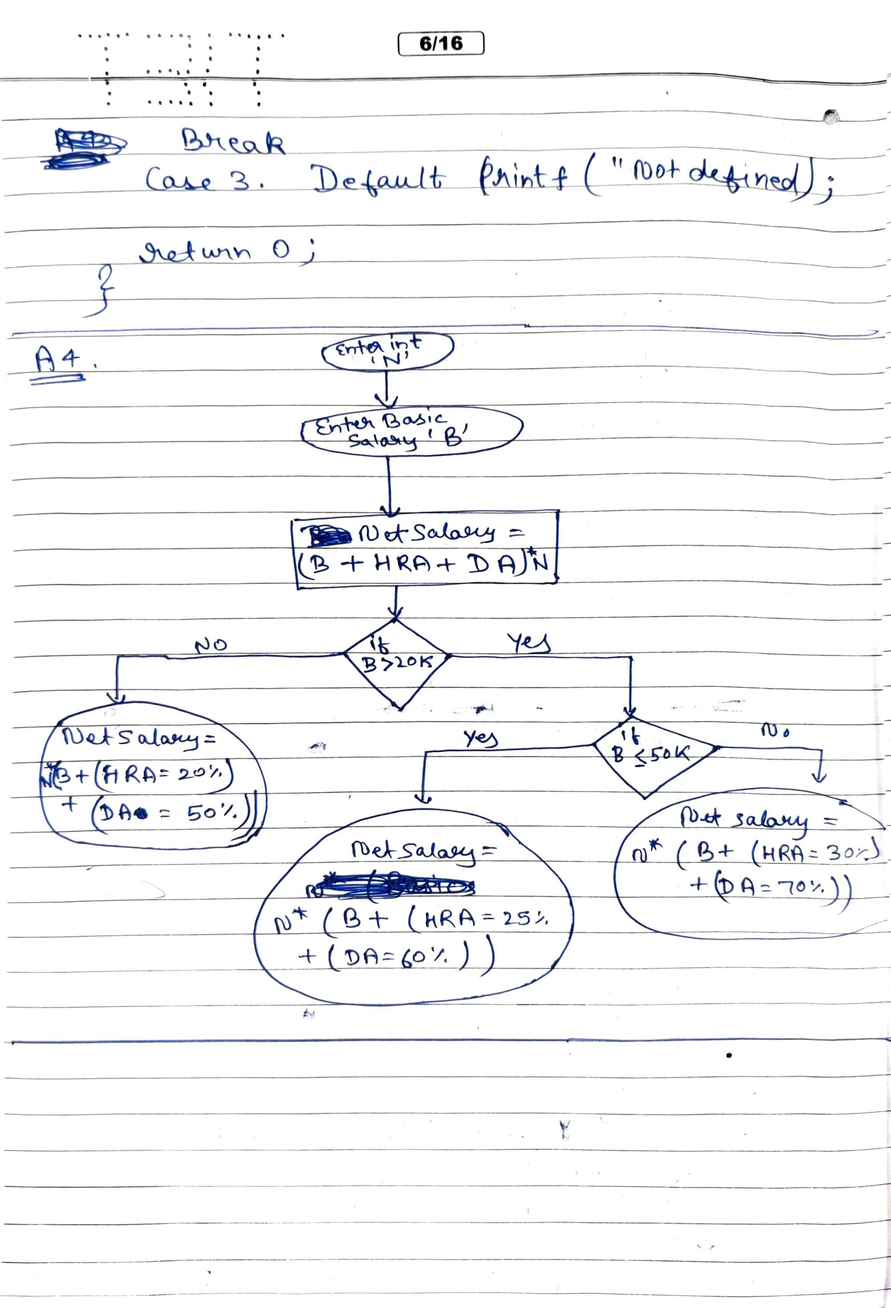cuttings: (304, 870, 477, 904), (40, 126, 128, 172), (298, 524, 353, 549), (133, 807, 148, 820)
